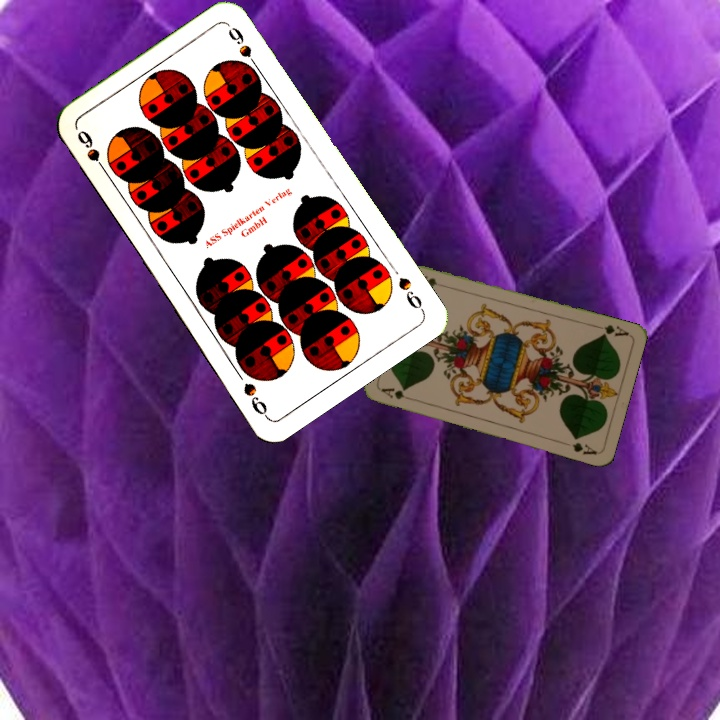GA: (591, 321, 631, 339), (377, 384, 407, 402)
S9: (72, 126, 111, 178), (394, 273, 427, 315)
